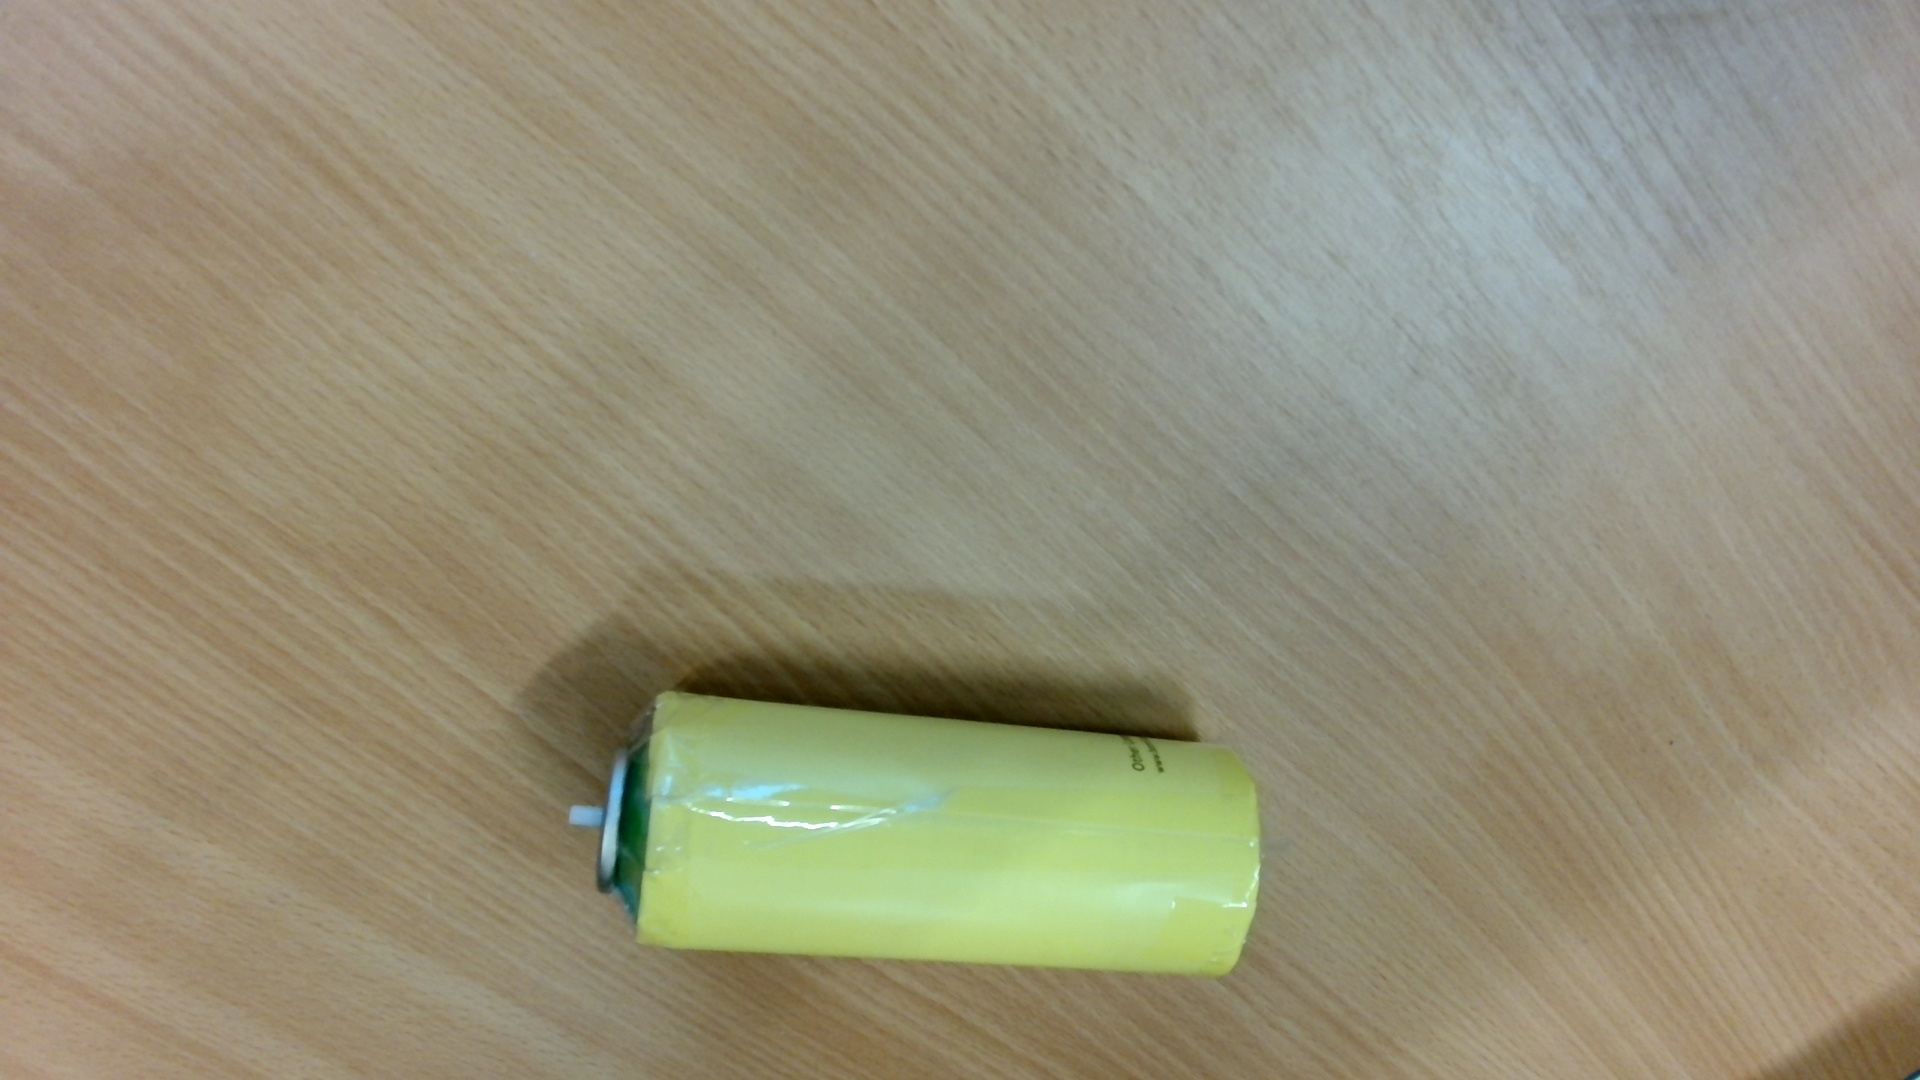Cylinder: (545, 679, 1270, 1001)
